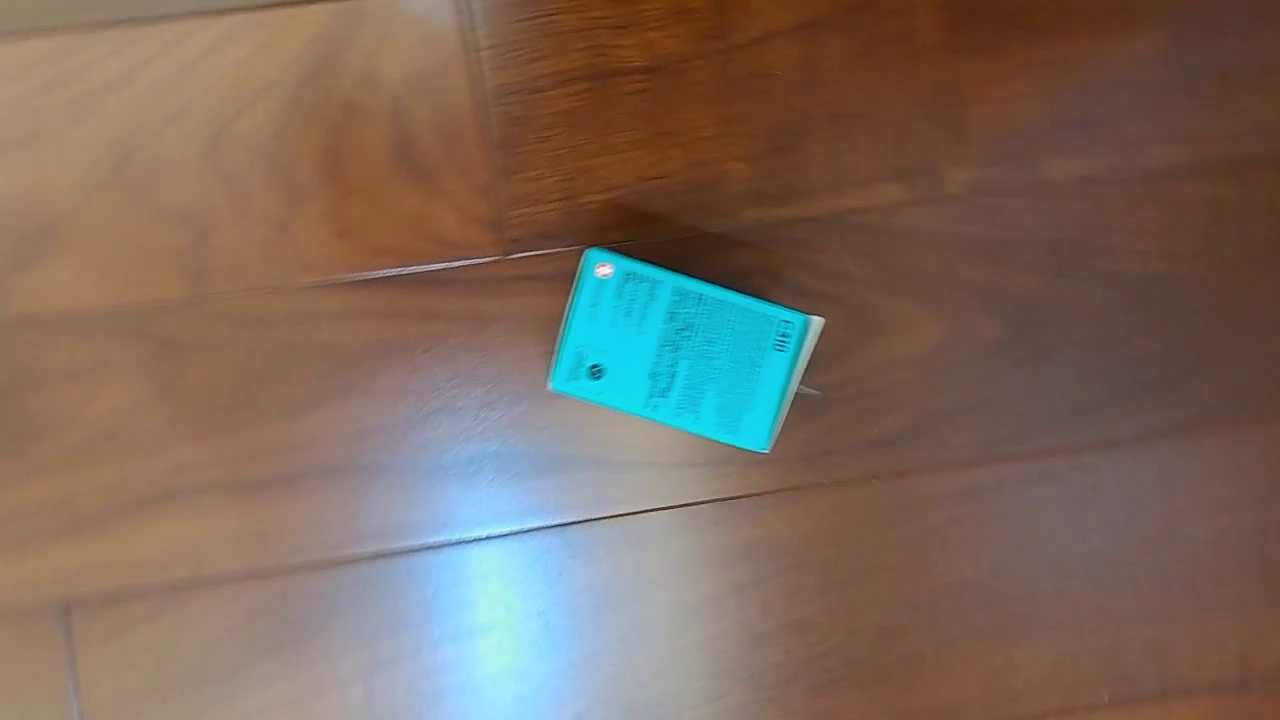webcam: (542, 244, 828, 457)
